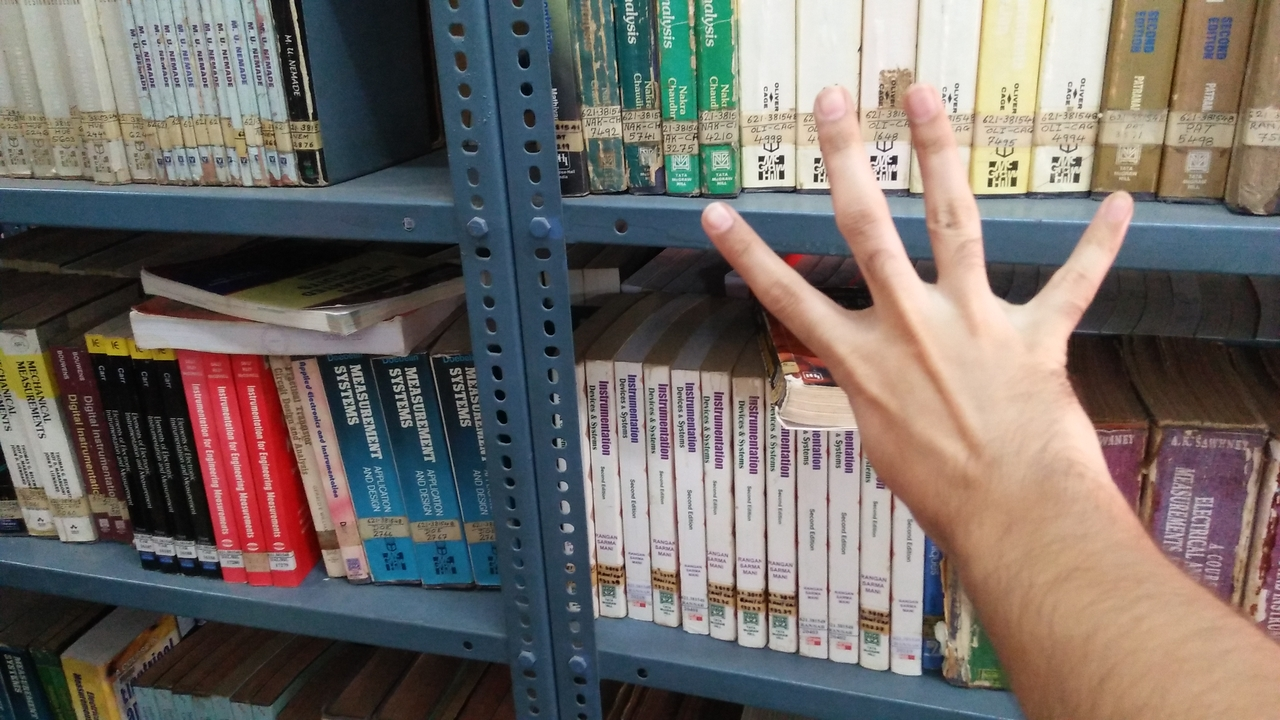fingertip: (810, 80, 868, 132), (900, 76, 956, 126), (1092, 178, 1150, 226), (696, 190, 748, 242)
